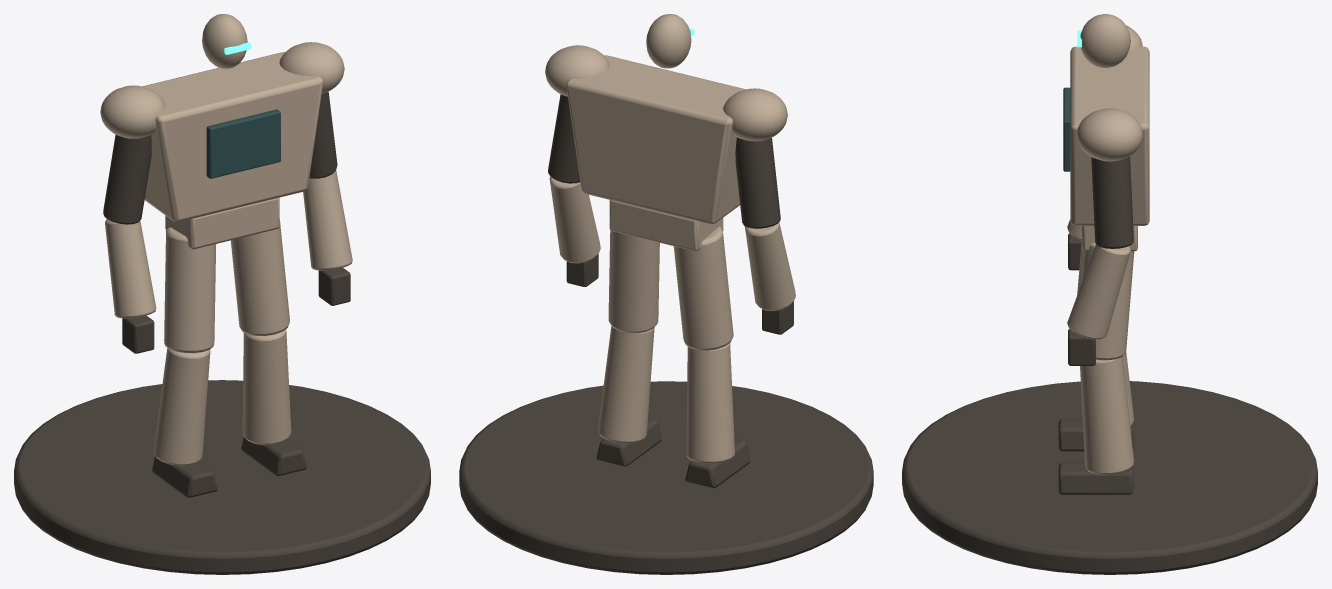
The model's file is reliquary_frame_titan.glb.
The picture shows the model from 3 angles, left to right: view 1: azimuth 30°, elevation 25°; view 2: azimuth 150°, elevation 25°; view 3: azimuth 270°, elevation 25°; orthographic projection.
Visible parts, largest first — view 1: standin_base.011, standin_torso.011, standin_thigh_R.011, standin_shin_R.011, standin_thigh_L.011, standin_shin_L.011, tp.011, standin_forearm_R.011, standin_forearm_L.011, standin_arm_R.011, standin_pelvis.011, standin_pauldron_R.011 (+7 smaller); view 2: standin_base.011, standin_torso.011, standin_thigh_R.011, standin_shin_R.011, standin_shin_L.011, standin_thigh_L.011, standin_arm_R.011, standin_forearm_R.011, standin_pelvis.011, standin_forearm_L.011, standin_pauldron_R.011, standin_pauldron_L.011 (+6 smaller); view 3: standin_base.011, standin_torso.011, standin_shin_L.011, standin_forearm_L.011, standin_arm_L.011, standin_pauldron_L.011, standin_helm.011, standin_thigh_L.011, standin_foot_L.011, standin_foot_R.011, standin_hand_L.011, tp.011.
Part boxes in pixels (x1,y1,x2,y2): standin_base.011: (14,380,430,574); standin_torso.011: (142,52,323,221); standin_thigh_R.011: (164,227,216,352); standin_shin_R.011: (153,348,210,465); standin_thigh_L.011: (230,219,289,335); standin_shin_L.011: (242,329,291,445); tp.011: (206,109,280,178); standin_forearm_R.011: (105,219,156,318); standin_forearm_L.011: (303,170,352,270); standin_arm_R.011: (103,134,151,224); standin_pelvis.011: (165,197,279,249); standin_pauldron_R.011: (100,85,165,138); standin_base.011: (459,381,873,574); standin_torso.011: (566,55,745,224); standin_thigh_R.011: (673,227,733,350); standin_shin_R.011: (686,343,734,463); standin_shin_L.011: (598,326,654,443); standin_thigh_L.011: (608,230,659,333); standin_arm_R.011: (735,137,780,228); standin_forearm_R.011: (745,222,795,311); standin_pelvis.011: (609,200,723,251); standin_forearm_L.011: (549,176,600,263); standin_pauldron_R.011: (723,88,787,141); standin_pauldron_L.011: (545,45,609,96); standin_base.011: (902,381,1317,574); standin_torso.011: (1070,46,1149,225); standin_shin_L.011: (1080,357,1134,474); standin_forearm_L.011: (1067,244,1130,339); standin_arm_L.011: (1091,156,1133,248); standin_pauldron_L.011: (1076,108,1143,161); standin_helm.011: (1080,14,1130,67); standin_thigh_L.011: (1080,242,1134,360); standin_foot_L.011: (1058,462,1133,494); standin_foot_R.011: (1058,419,1133,451); standin_hand_L.011: (1068,329,1095,365); tp.011: (1063,87,1070,171).
Bounding box in the file's own units: 50 × 62.84 × 50.
